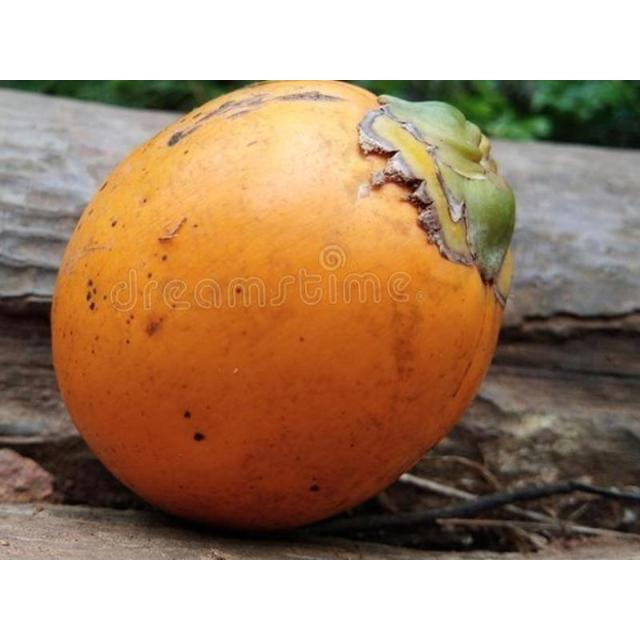good: (50, 80, 518, 538)
